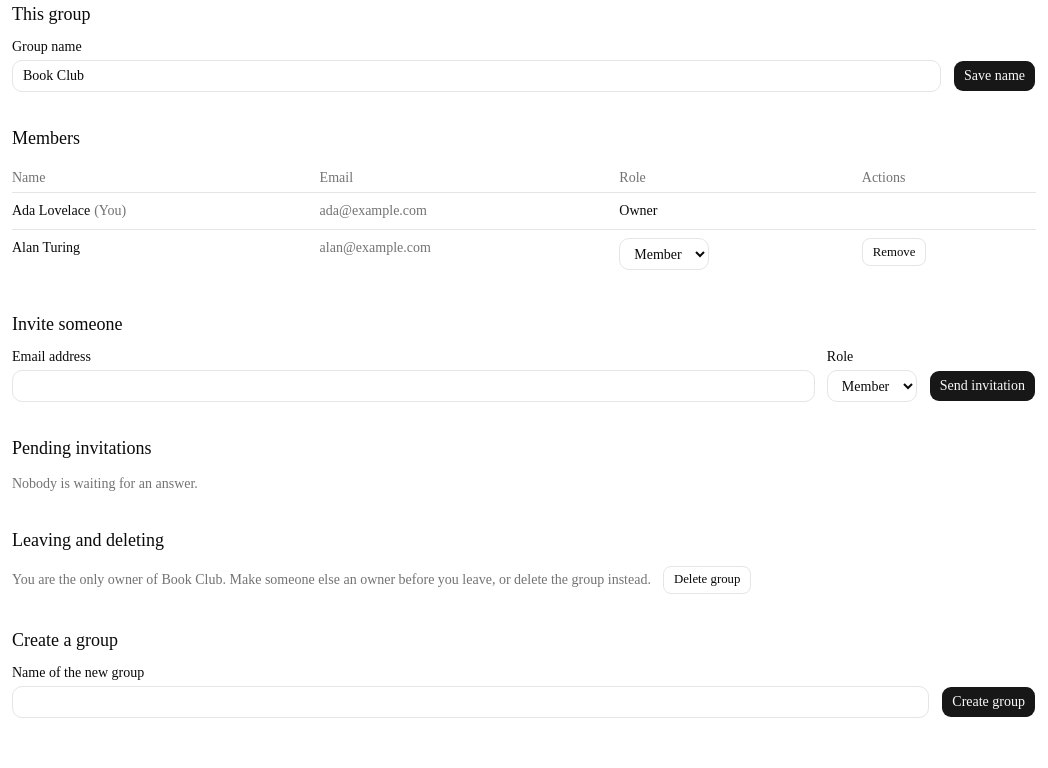
Test: GroupSettings › the personal group › when the server refuses a change to someone else's › explains a refused deletion
Click the button "Delete group": (707, 580) [663,566,751,594]
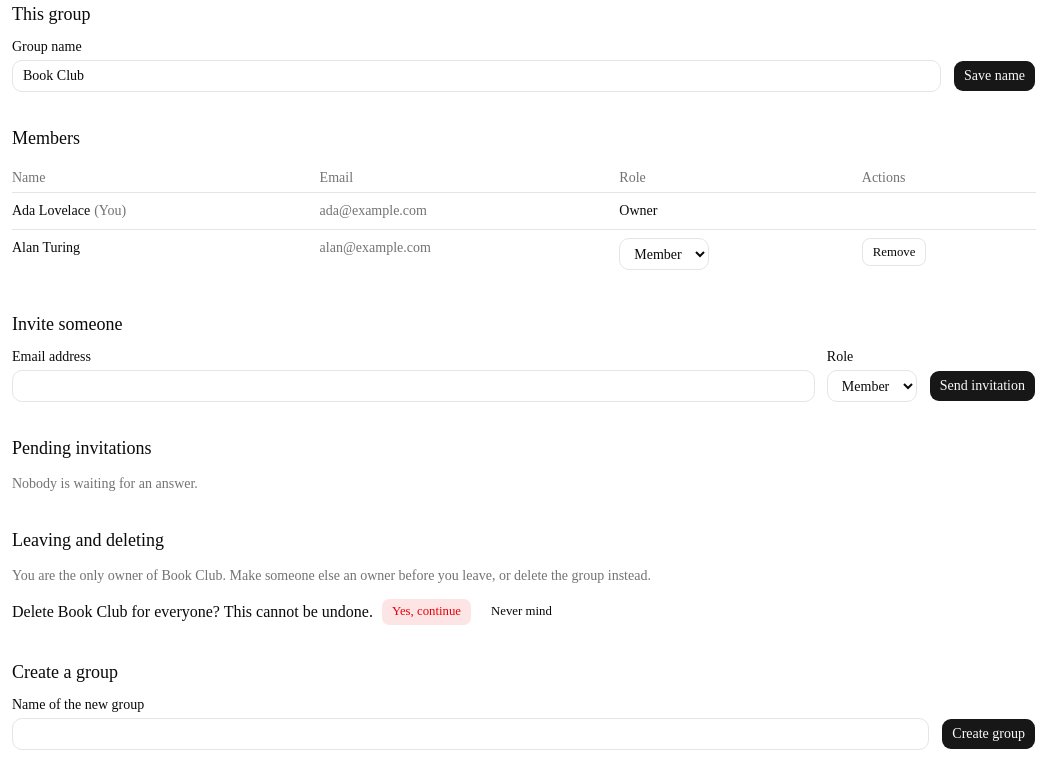
Click the button "Yes, continue": (426, 612) [381,598,472,626]
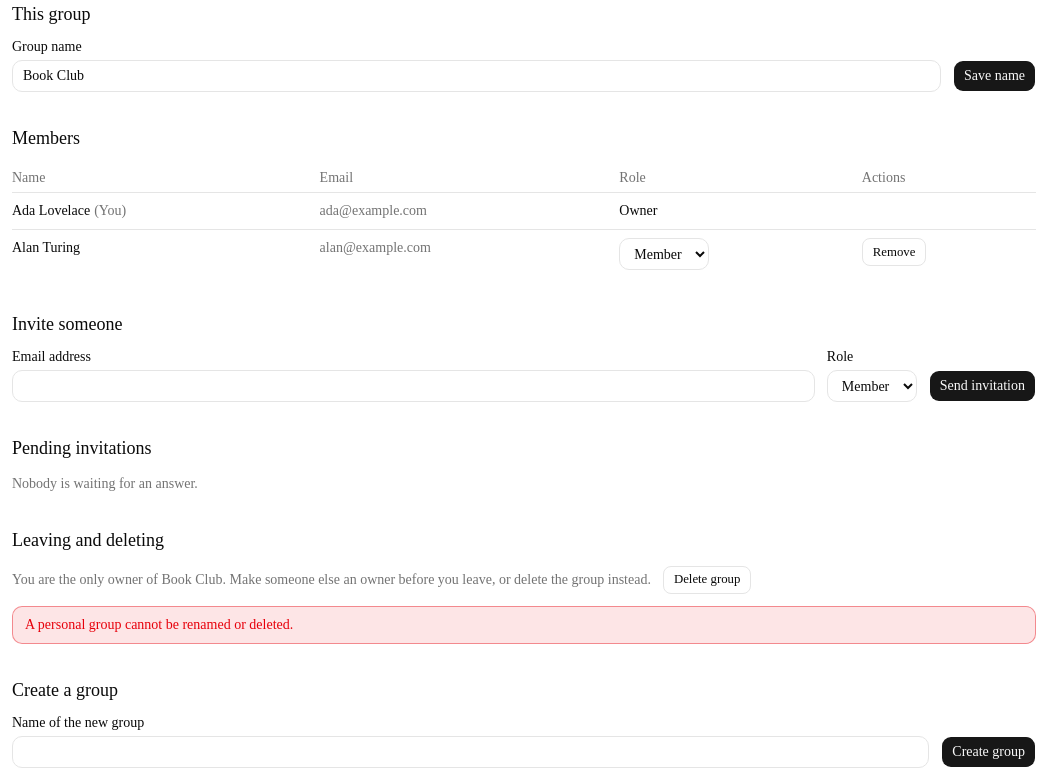
Expected: the message "A personal group cannot be renamed or deleted." is shown, [12,606,1036,644]
Expected: the message reads "A personal group cannot be renamed or deleted.", [25,617,293,632]
